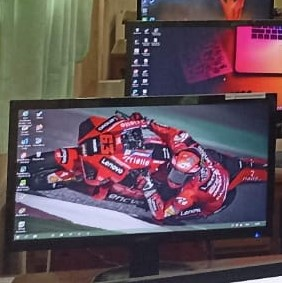monitor: (5, 92, 278, 263), (124, 20, 282, 109)
